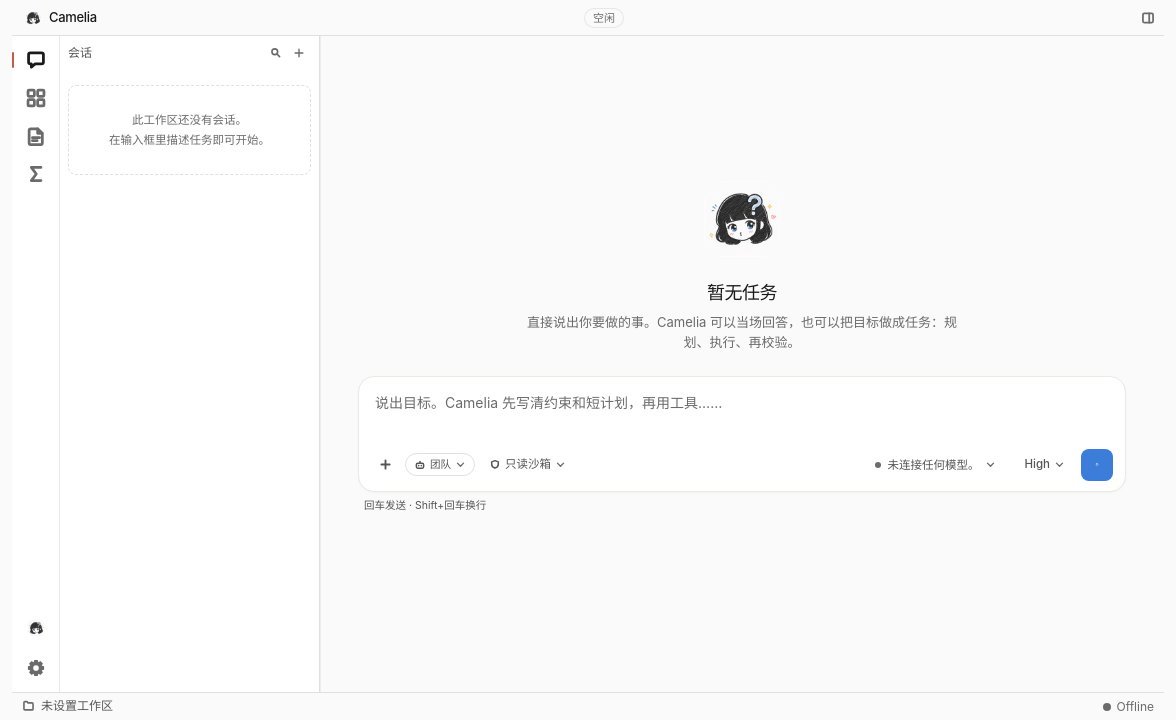
Scenario: math workspace › leaves solve and export disabled with a stated reason
Step 1. Click the button named "Math" → [36, 174], box [18,156,54,192]
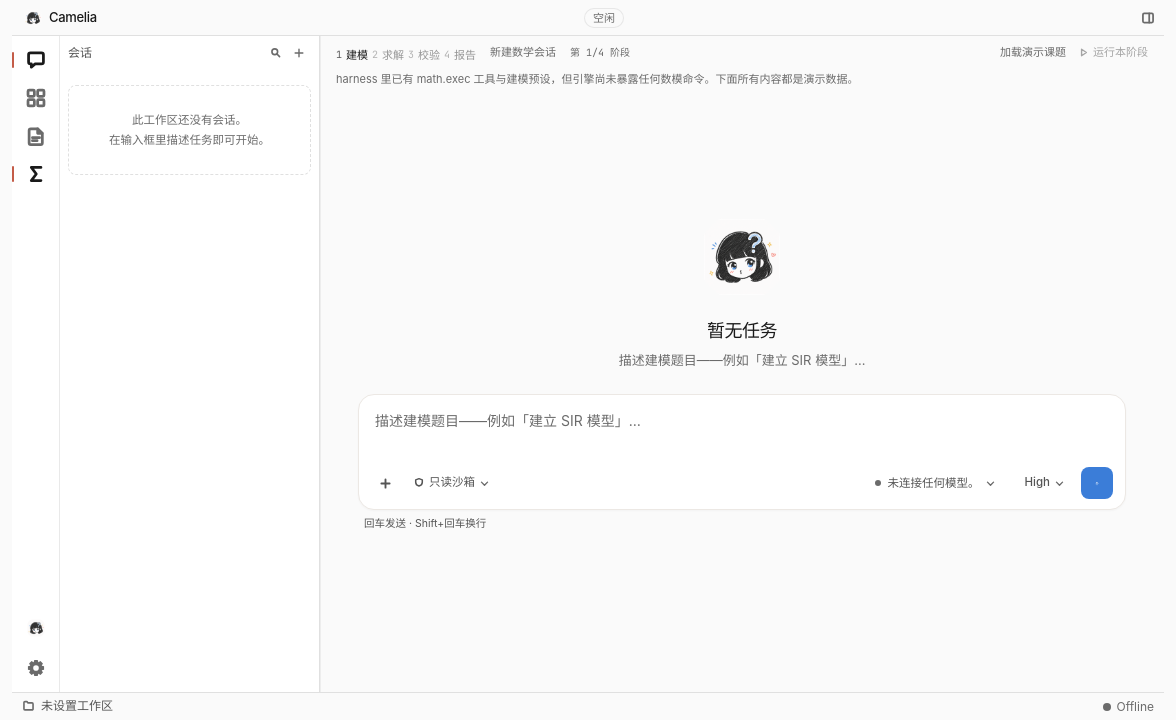
Now the element showing "运行本阶段" is shown, box [1078,44,1148,61]
Step 2. Click the button "加载演示课题" → [1033, 53], box [994,42,1072,63]
(page scrolled)
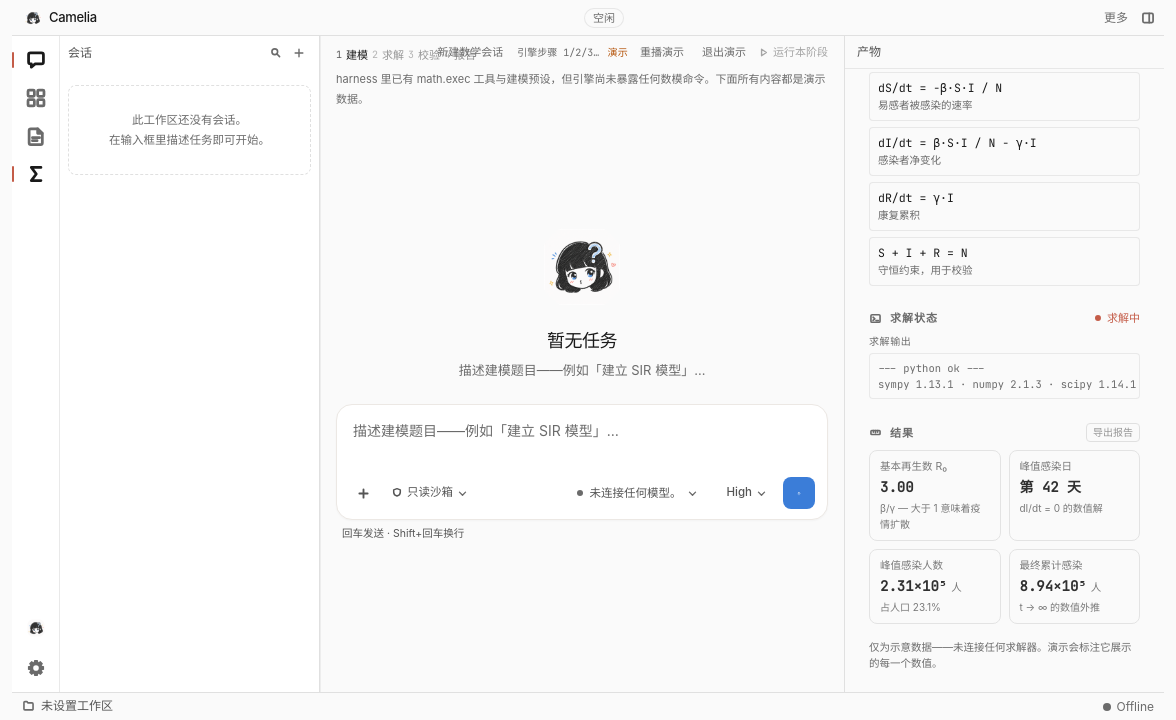
Now the text "导出报告" is shown, box [1086,423,1140,442]
